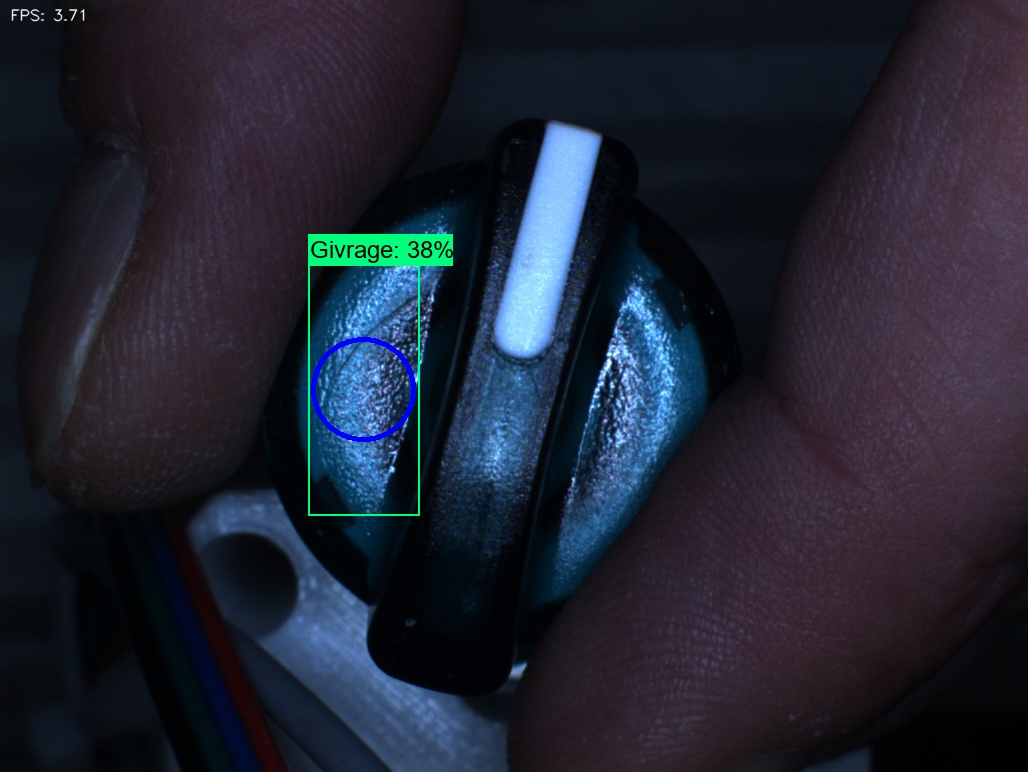PointNoir: (492, 226, 565, 303)
